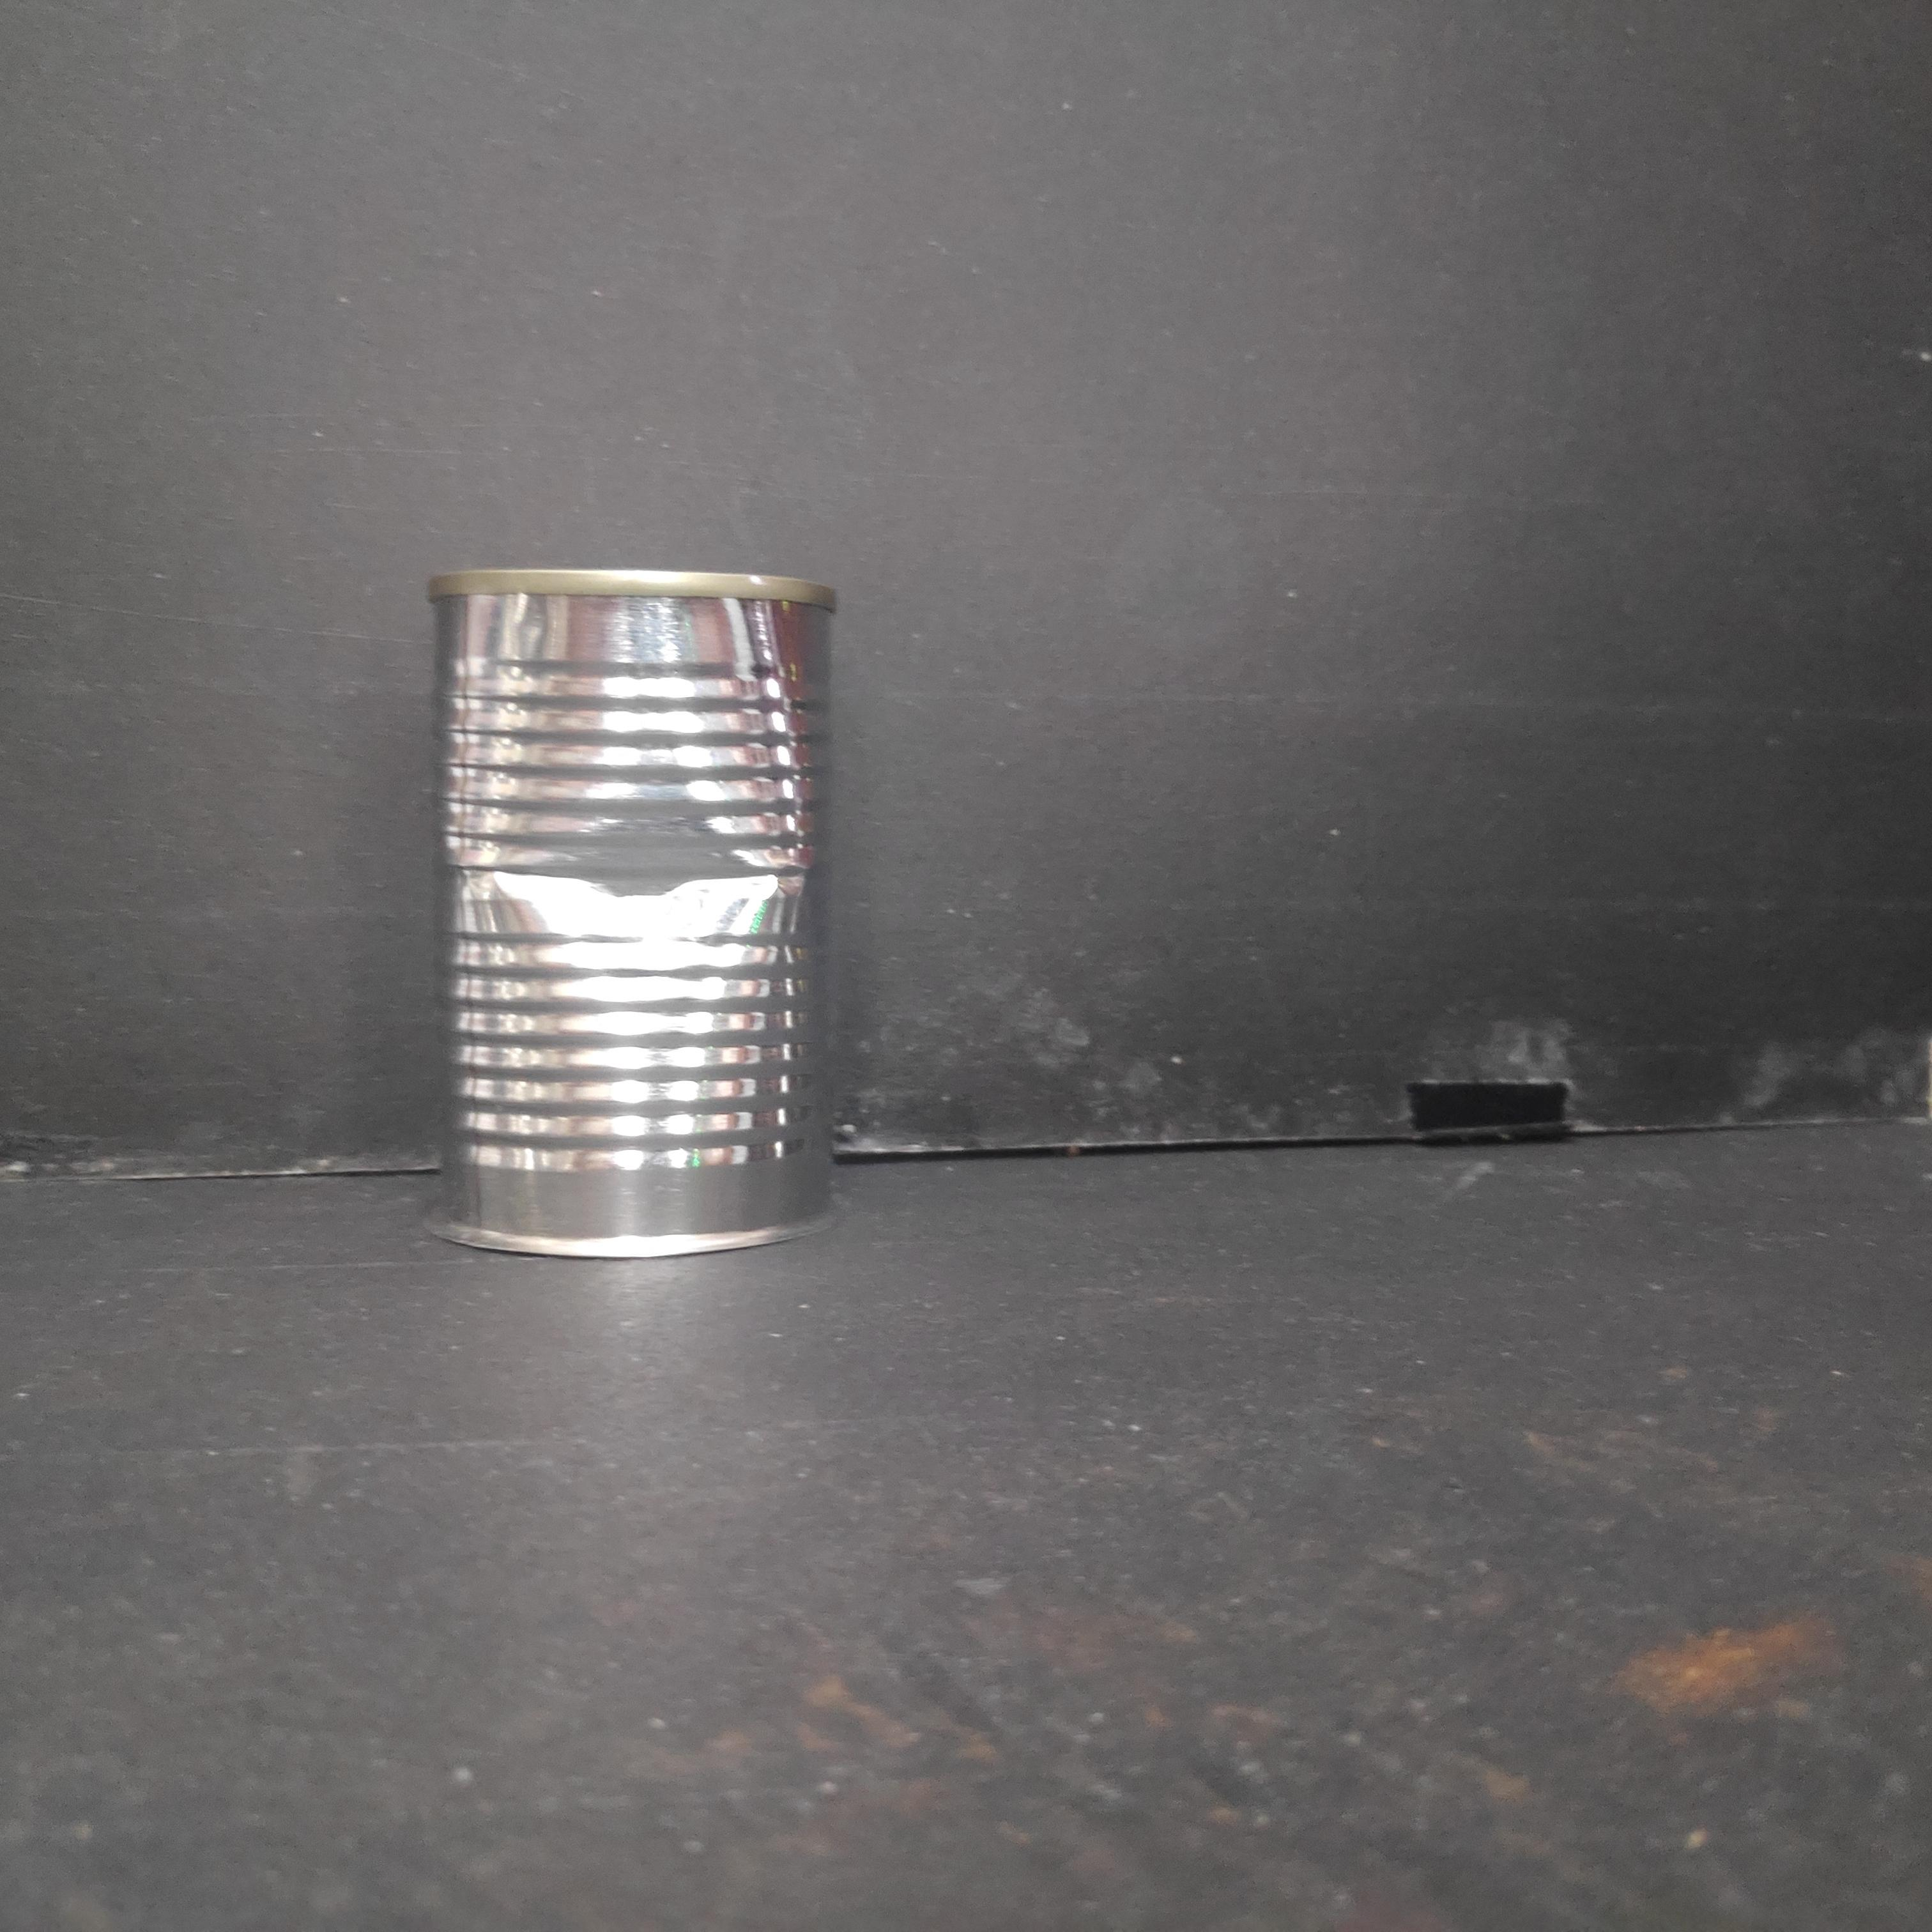Minor Defect: (414, 557, 846, 1272)
